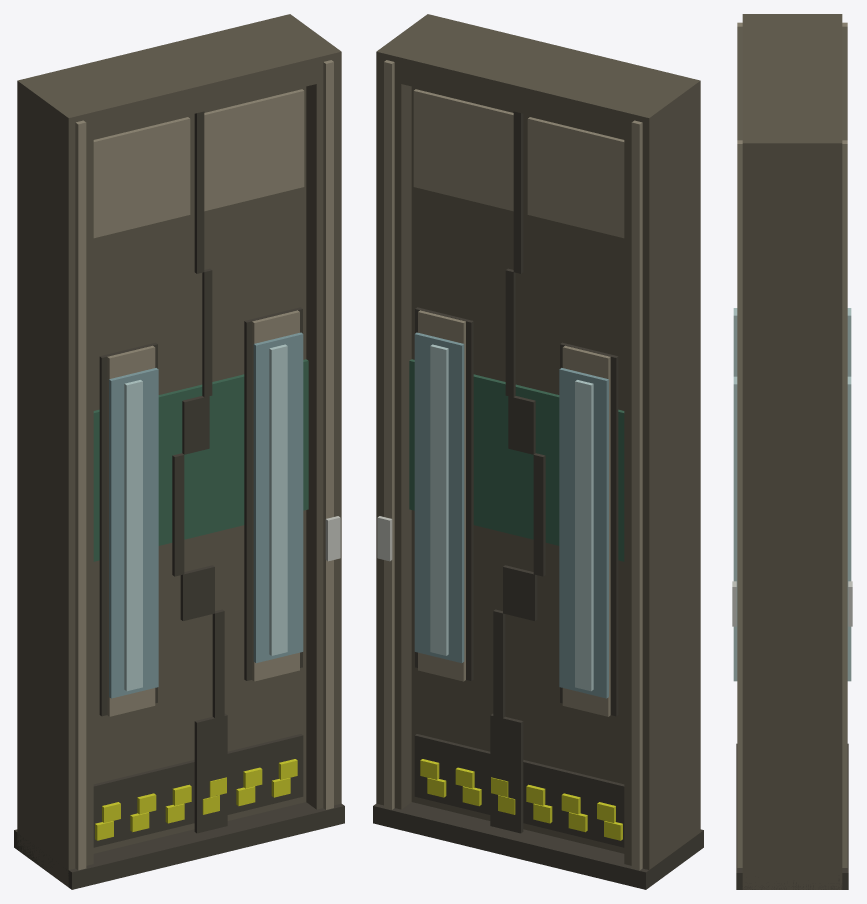
Rendered from CMU3DSingleMedicalGovforDoorGlass.glb.
The picture shows the model from 3 angles, left to right: view 1: azimuth 30°, elevation 25°; view 2: azimuth 150°, elevation 25°; view 3: azimuth 270°, elevation 25°; orthographic projection. The views are drawn at different scales.
Parts seen in each view (by area): view 1: door jamb (×2), closed leaf body, glass port (×2), header, upper inset band (×2), jamb raised edge (×2), leaf meeting seam (×7), department color band, glass reflection (×2), lower hazard backing, threshold, window dark surround (×2) (+2 smaller); view 2: door jamb (×2), closed leaf body, glass port back (×2), header, upper inset band back (×2), jamb raised edge (×2), leaf meeting seam back (×7), department color band back, glass reflection back (×2), threshold, lower hazard backing back, window dark surround back (×2) (+2 smaller); view 3: door jamb (×2), header, jamb raised edge (×4), glass reflection (×2), glass reflection back (×2), threshold.
Boxes of the visible parts, box(x1,y1,x2,y2) form: door jamb (×2): box(17, 14, 341, 887); closed leaf body: box(93, 86, 306, 853); glass port (×2): box(109, 332, 303, 698); header: box(17, 14, 341, 144); upper inset band (×2): box(93, 89, 304, 238); jamb raised edge (×2): box(75, 60, 333, 870); leaf meeting seam (×7): box(172, 111, 227, 833); department color band: box(93, 359, 308, 561); glass reflection (×2): box(124, 344, 287, 691); lower hazard backing: box(93, 734, 303, 847); threshold: box(14, 802, 344, 889); window dark surround (×2): box(99, 307, 302, 716); door jamb (×2): box(376, 14, 700, 869); closed leaf body: box(411, 86, 624, 853); glass port back (×2): box(414, 332, 608, 698); header: box(376, 14, 700, 144); upper inset band back (×2): box(413, 89, 624, 238); jamb raised edge (×2): box(384, 60, 642, 870); leaf meeting seam back (×7): box(490, 111, 545, 833); department color band back: box(409, 359, 624, 561); glass reflection back (×2): box(430, 344, 593, 691); threshold: box(373, 802, 703, 889); lower hazard backing back: box(414, 734, 624, 847); window dark surround back (×2): box(415, 307, 618, 716); door jamb (×2): box(742, 14, 842, 889); header: box(742, 14, 842, 168); jamb raised edge (×4): box(737, 22, 847, 867); glass reflection (×2): box(733, 308, 737, 681); glass reflection back (×2): box(847, 308, 851, 681); threshold: box(736, 743, 848, 889).
Bounding box in the file's own units: 0.98 × 2.64 × 0.386.
